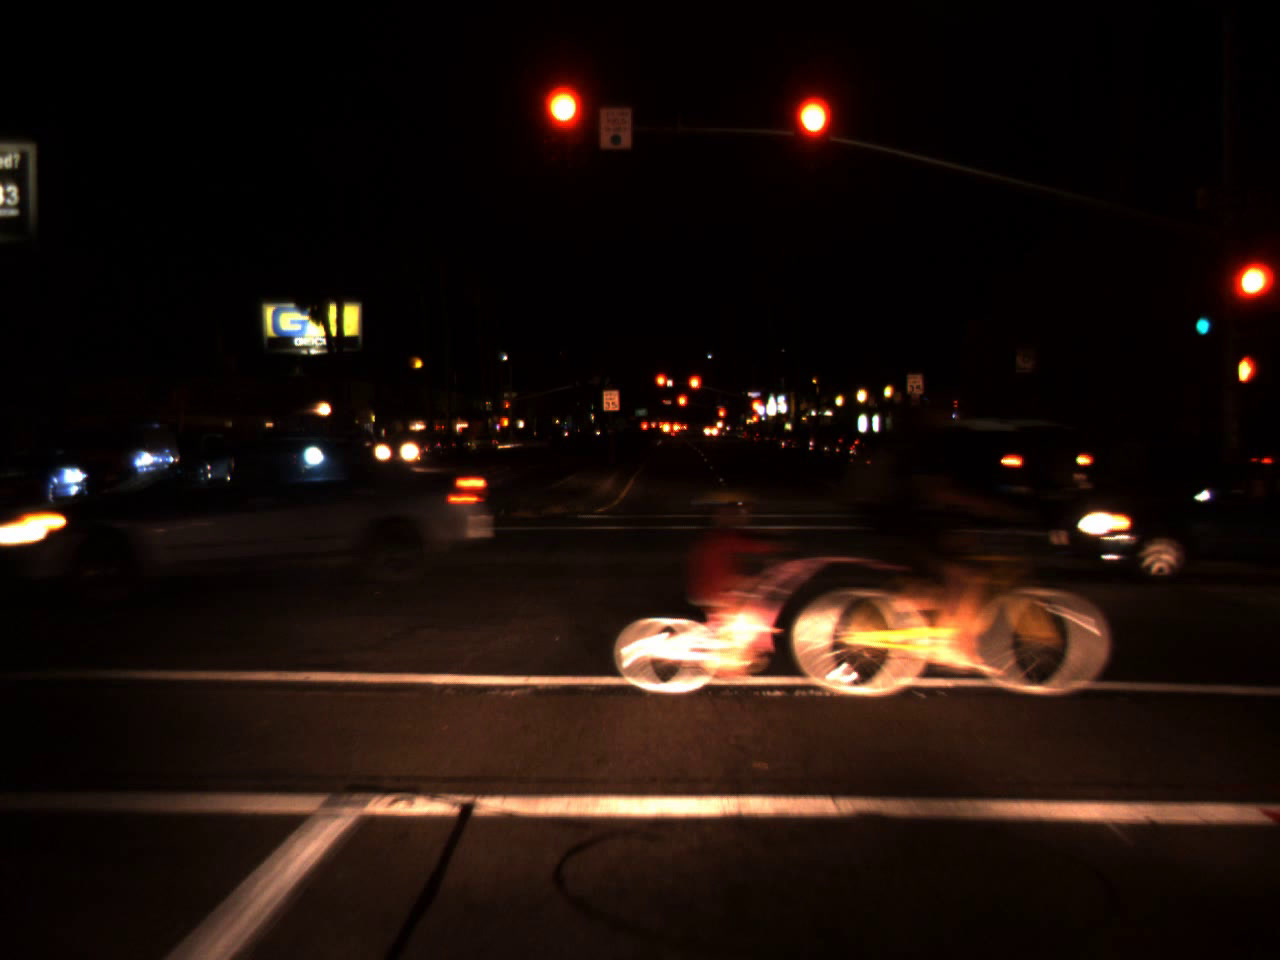stop: (544, 85, 583, 163), (1228, 262, 1271, 329), (795, 97, 831, 175), (653, 372, 671, 401), (686, 374, 702, 403), (748, 396, 761, 423), (677, 393, 689, 419), (717, 406, 726, 427), (500, 399, 509, 417)
